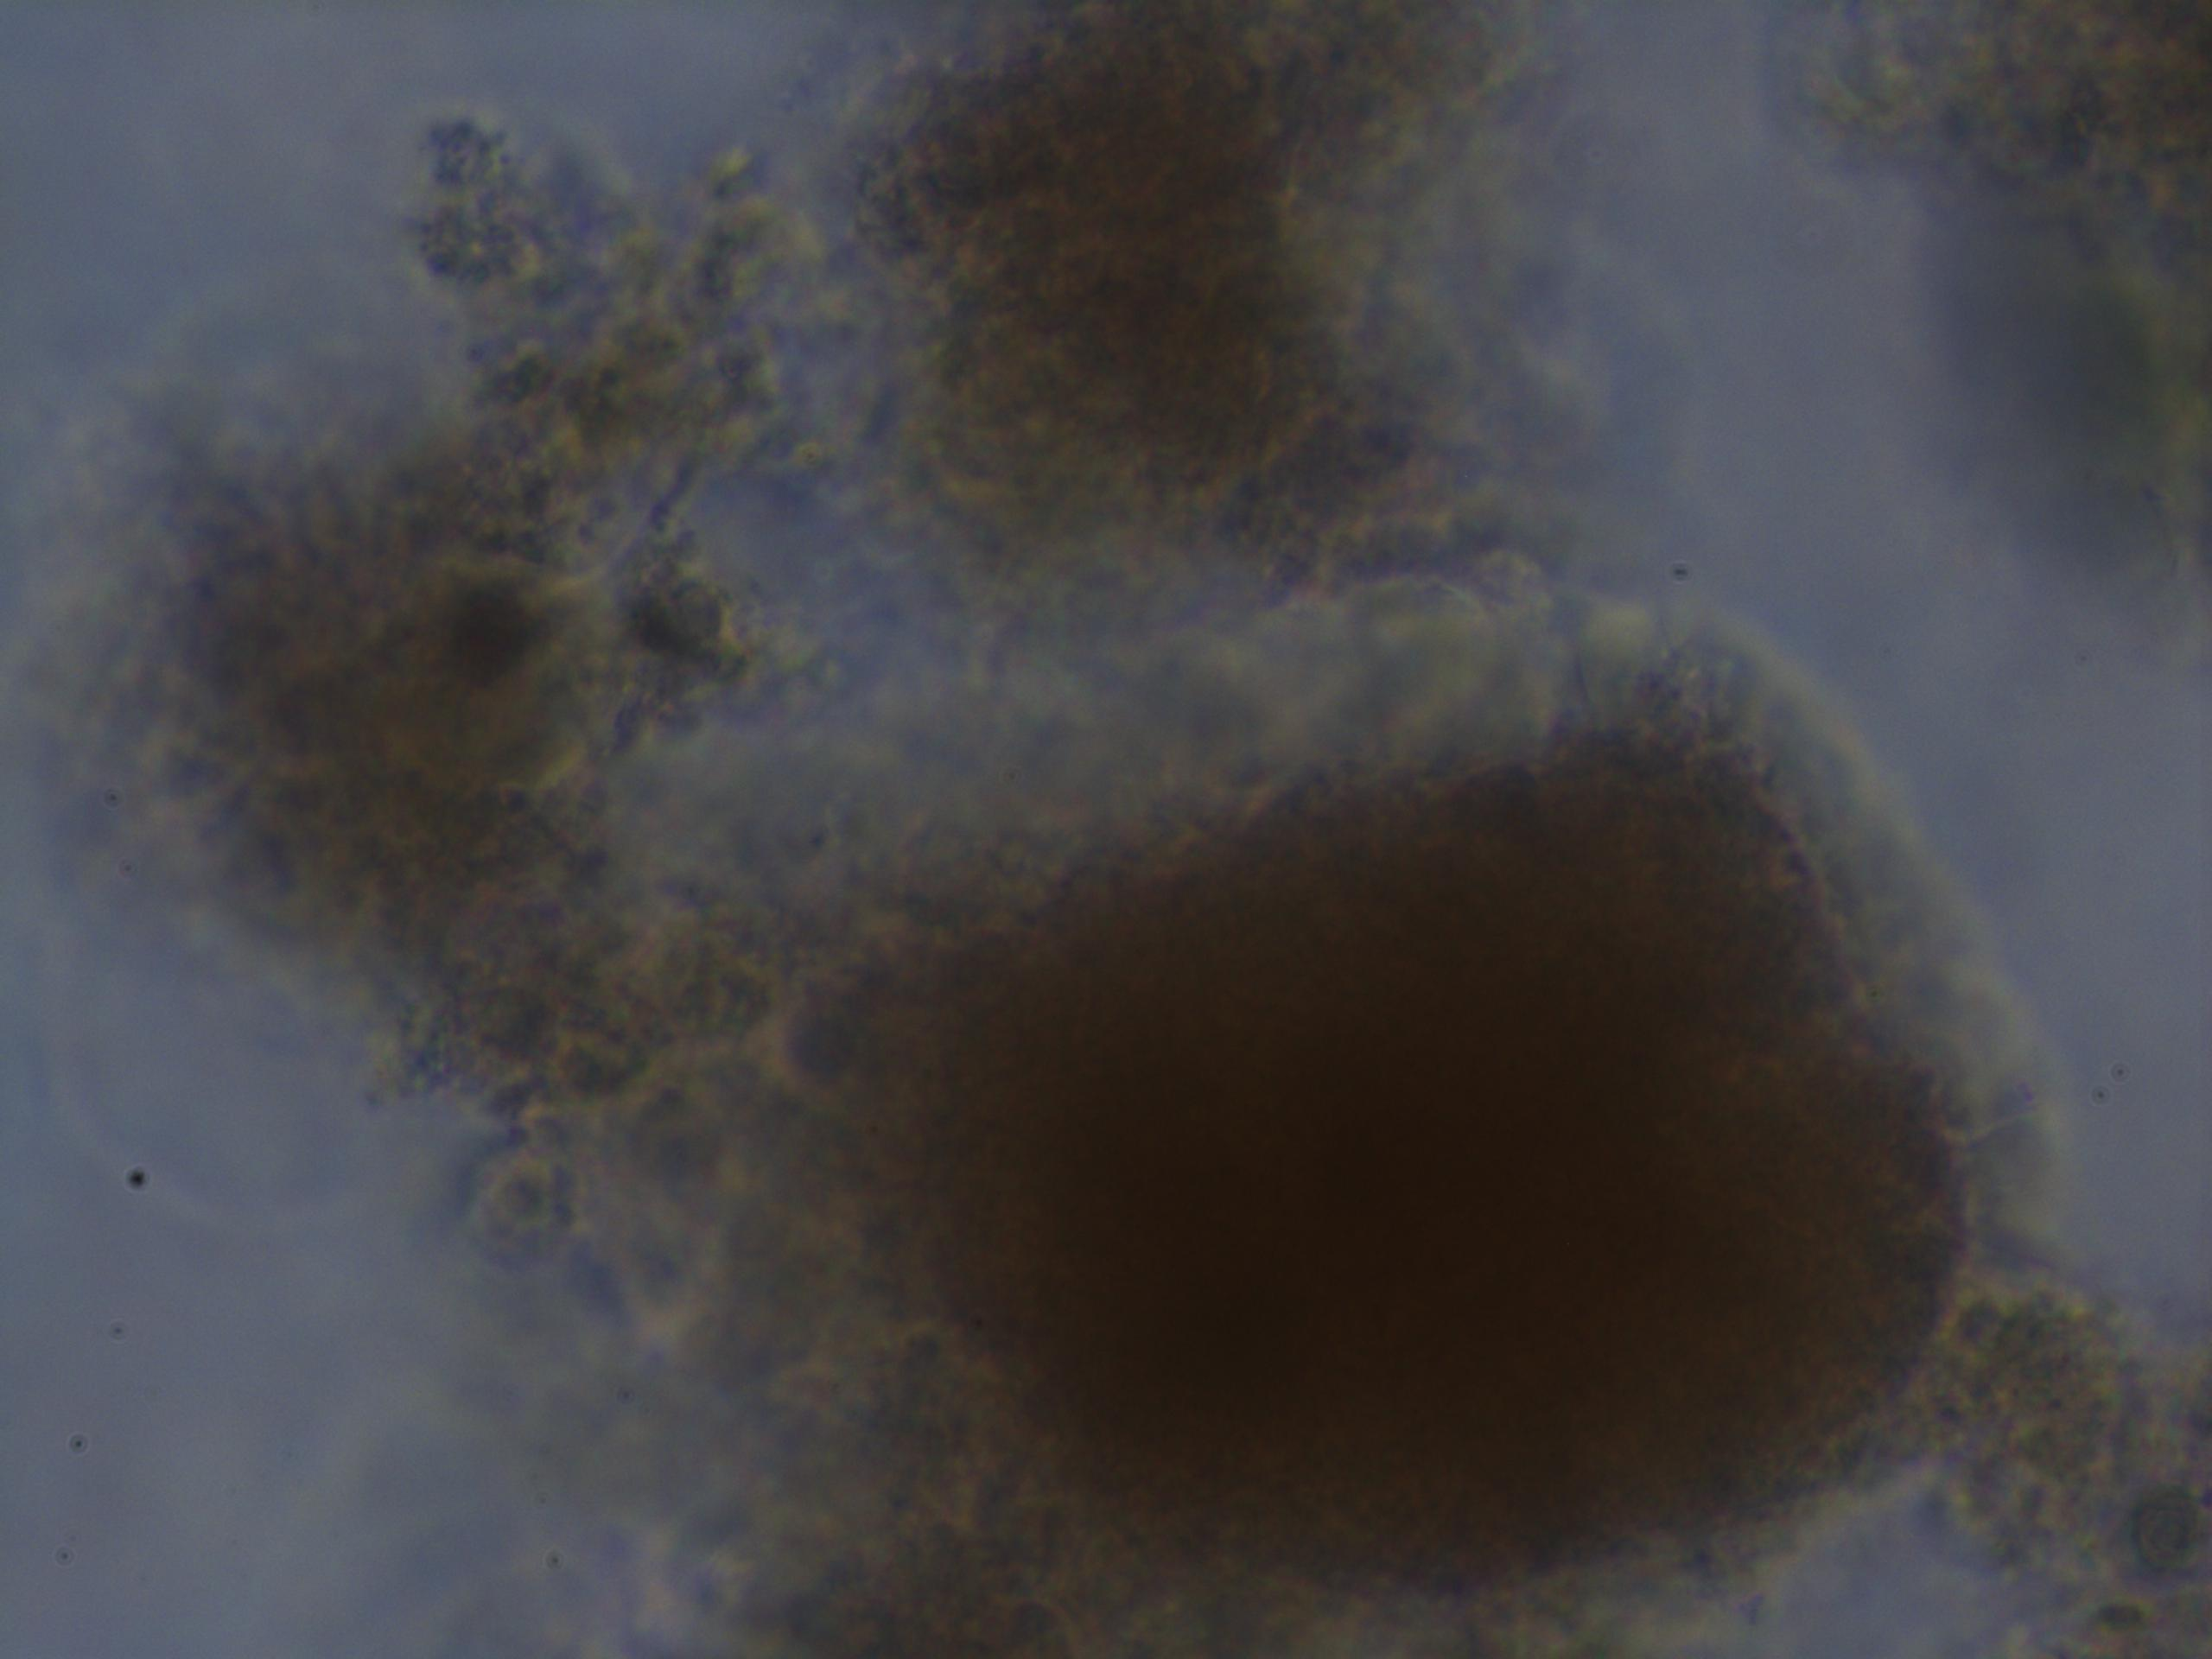spherical_floc: (812, 685, 2022, 1659)
